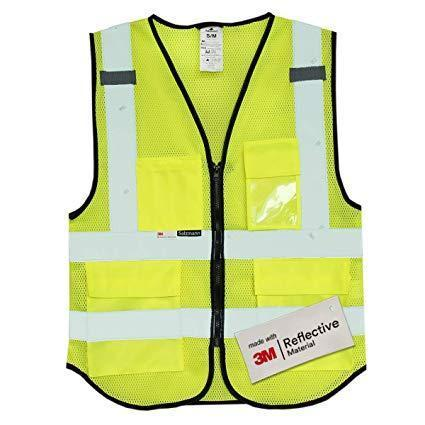vest: (63, 15, 367, 409)
